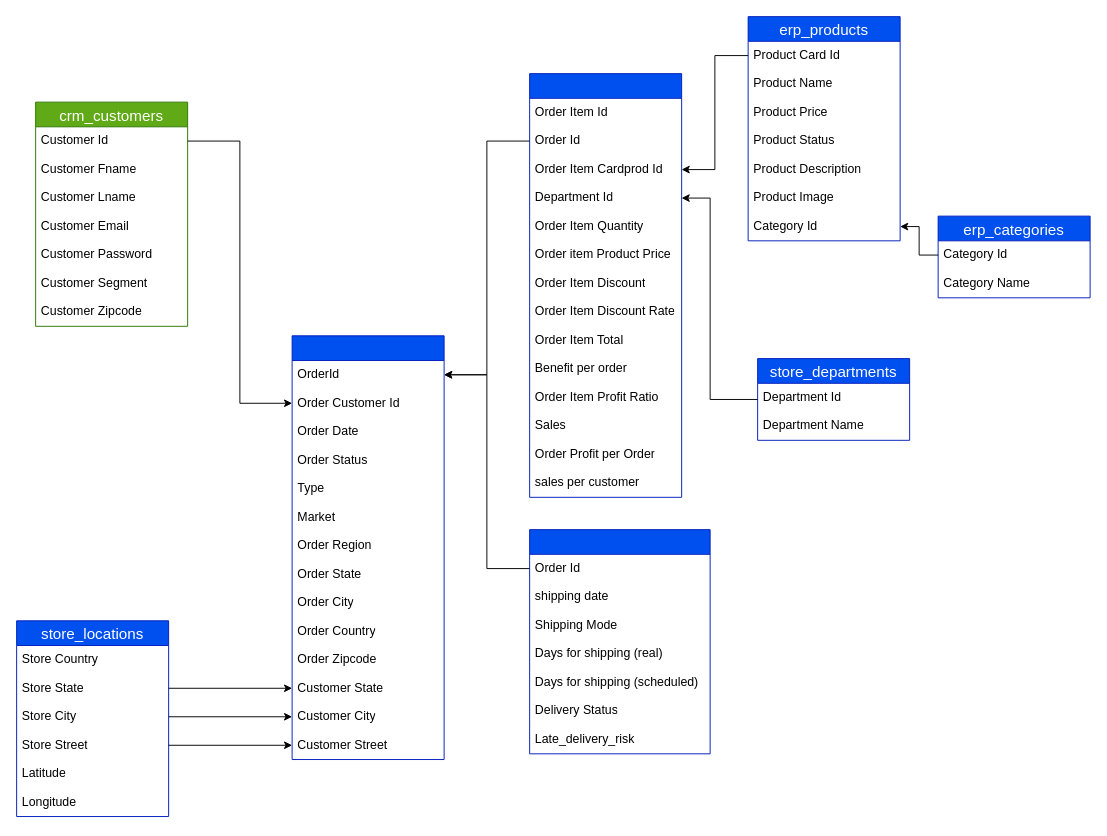
This 1107x836 diagram has some shape labels left out. Here are the shapes that lost their labels. From the top down, the box of each, then its label:
(529, 73, 682, 497): erp_order_items
(291, 335, 444, 760): erp_order_headers
(529, 529, 710, 754): erp_shipping
